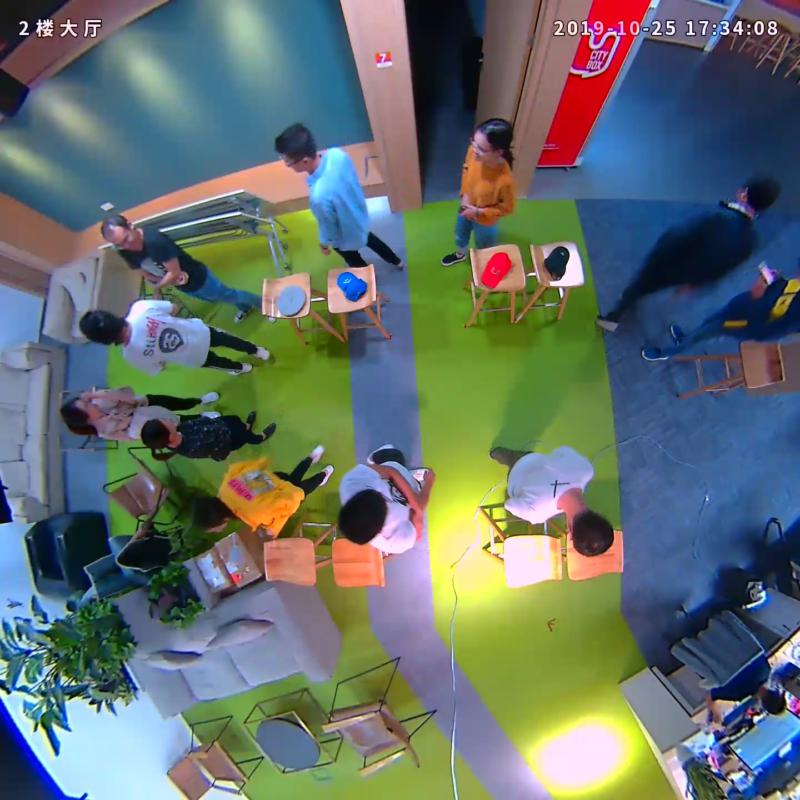head: (338, 489, 389, 545), (566, 508, 615, 558), (274, 124, 316, 174), (472, 118, 513, 162), (736, 172, 779, 212), (188, 498, 231, 535), (78, 309, 122, 344), (100, 214, 141, 250), (59, 396, 102, 427), (139, 416, 177, 447)
